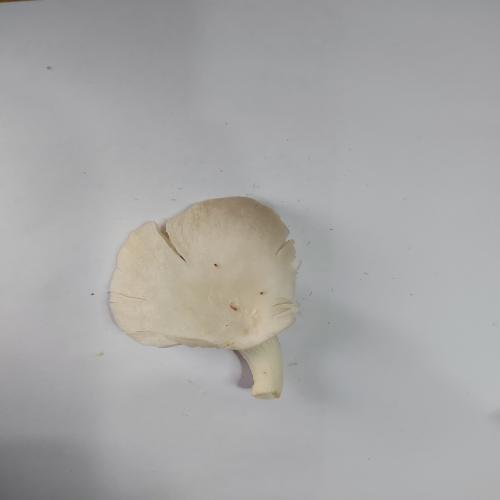Oyster Mushroom: (107, 195, 302, 400)
